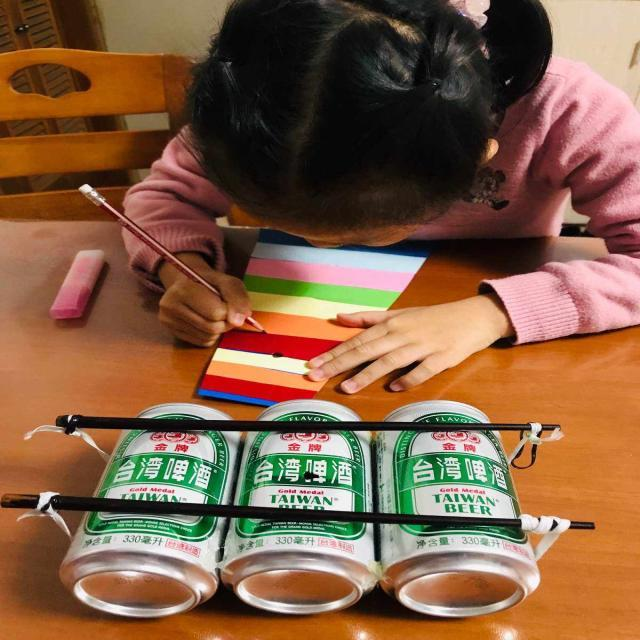can: (60, 512, 227, 618), (220, 518, 380, 614), (380, 525, 540, 617), (377, 431, 520, 517), (235, 432, 373, 512), (95, 430, 239, 504), (258, 398, 360, 422), (385, 401, 488, 422), (140, 402, 232, 420)
